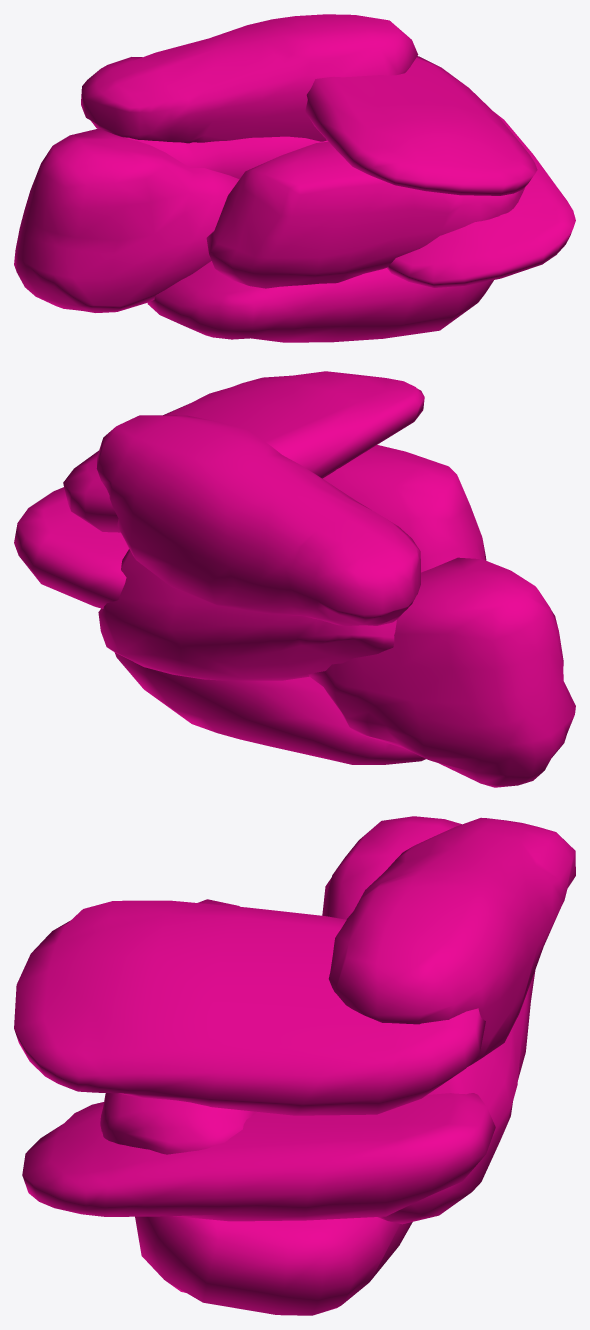
The model's file is MegaRock_Details_01_Lod0.fbx.
3 views of the same model, one above another, from view 1: azimuth 30°, elevation 25°; view 2: azimuth 150°, elevation 25°; view 3: azimuth 270°, elevation 25° (orthographic). The views are drawn at different scales.
Visible parts, largest first — view 1: MegaRock_Details_01_Lod0; view 2: MegaRock_Details_01_Lod0; view 3: MegaRock_Details_01_Lod0.
Boxes of the visible parts, x1,y1,x2,y2 form: MegaRock_Details_01_Lod0: (14,14,575,342); MegaRock_Details_01_Lod0: (14,371,575,787); MegaRock_Details_01_Lod0: (14,816,575,1315).
Bounding box in the file's own units: 6503 × 3643 × 4852.
